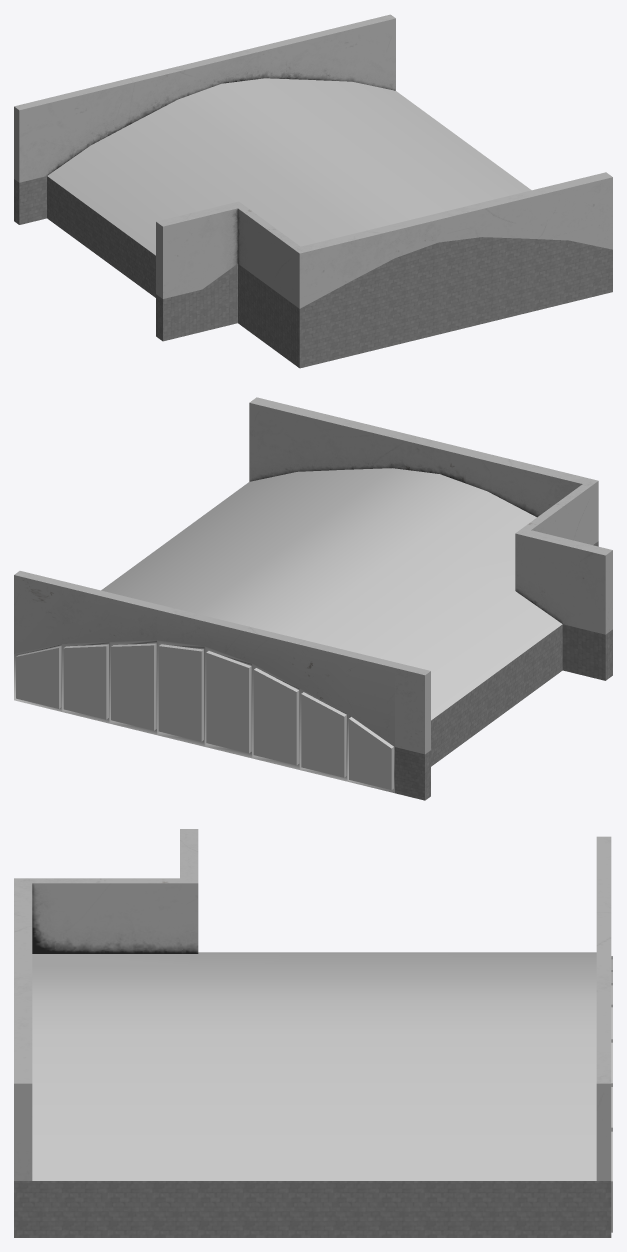
File: Hangar grande.fbx
3 renders of one model, top to bottom at view 1: azimuth 30°, elevation 25°; view 2: azimuth 150°, elevation 25°; view 3: azimuth 270°, elevation 25°, orthographic. The views are drawn at different scales.
Parts seen in each view (by area): view 1: Hangar_grabnde; view 2: Hangar_grabnde; view 3: Hangar_grabnde.
Boxes of the visible parts, left/top/right/bottom form: Hangar_grabnde: left=14, top=14, right=612, bottom=368; Hangar_grabnde: left=14, top=397, right=612, bottom=800; Hangar_grabnde: left=14, top=829, right=612, bottom=1237.
Size of the model in its own units: 13867 by 3921 by 13797.
